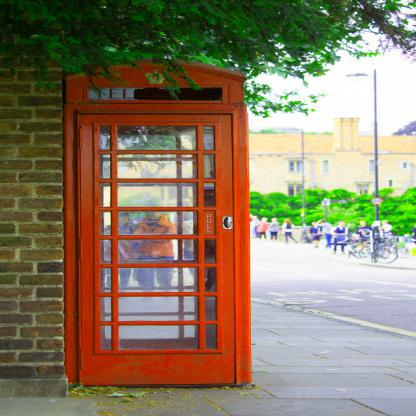door: (73, 112, 241, 388)
hinged: (76, 346, 86, 373), (77, 126, 85, 150), (80, 236, 84, 258)
